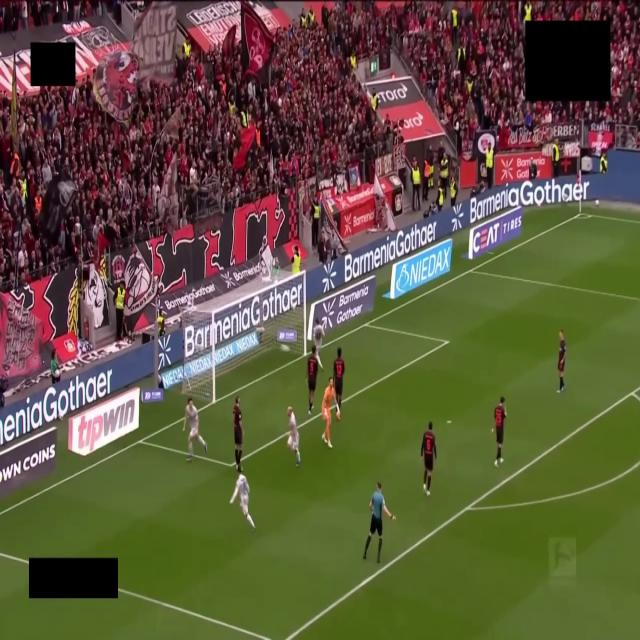player: (183, 398, 207, 461), (230, 472, 255, 529), (421, 422, 436, 496), (492, 397, 506, 467), (322, 378, 334, 447), (306, 346, 318, 415), (287, 407, 300, 465), (233, 397, 243, 471), (334, 348, 344, 408), (313, 319, 324, 368), (558, 330, 566, 392)
referee: (363, 482, 395, 563)
